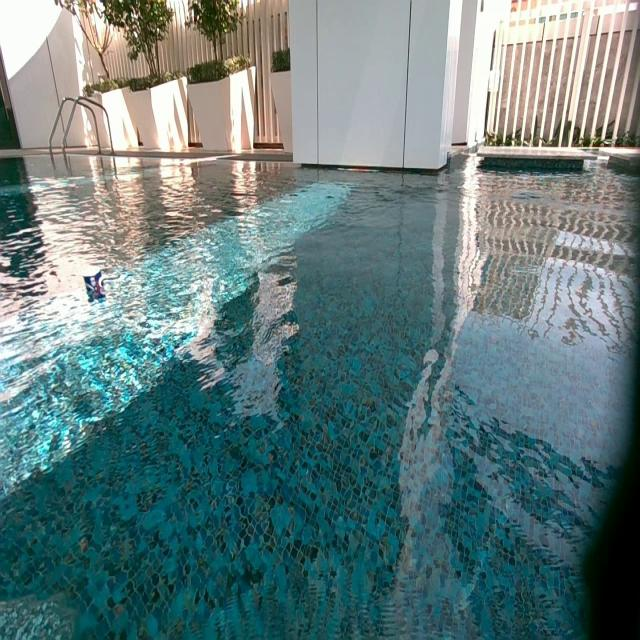Cans: (83, 270, 105, 295)
